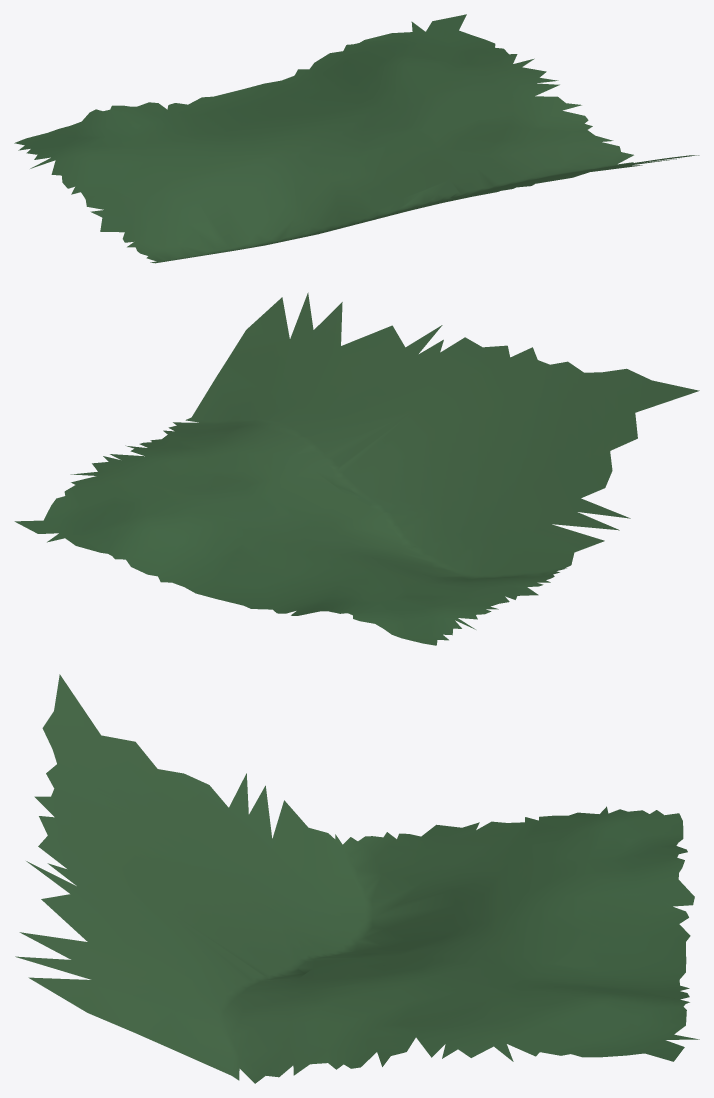
The model's file is payo_land_x0_y9_lod1.glb.
3 views of the same model, one above another, from view 1: azimuth 30°, elevation 25°; view 2: azimuth 150°, elevation 25°; view 3: azimuth 270°, elevation 25° (orthographic). The views are drawn at different scales.
Visible parts, largest first — view 1: payo_land_x0_y9; view 2: payo_land_x0_y9; view 3: payo_land_x0_y9.
Boxes of the visible parts, box(x1,y1,x2,y2) form: payo_land_x0_y9: box(14, 14, 699, 263); payo_land_x0_y9: box(14, 292, 699, 645); payo_land_x0_y9: box(15, 674, 699, 1083).
Size of the model in its own units: 285 by 75.25 by 278.
